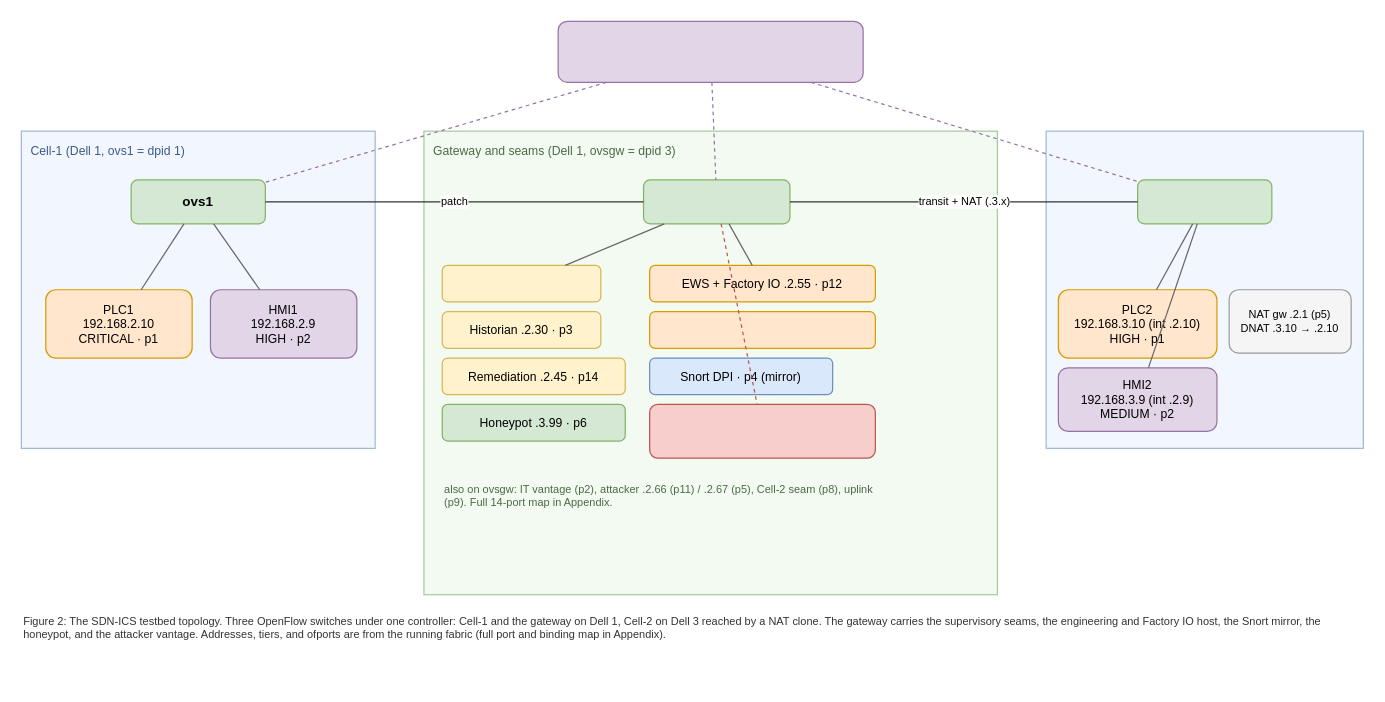
This 1385x702 diagram has some shape labels left out. The shapes that lost their labels are listed below. From the top down, each one's box as (x1, y1, x2, y2) in pixels, then its label:
(557, 20, 863, 82): CARS controller (Dell 2) os-ken, OpenFlow 1.3, API :8080
(642, 179, 790, 224): ovsgw
(1136, 179, 1272, 224): ovs2
(441, 264, 601, 302): SCADA .2.31 · p10
(1045, 130, 1363, 448): Cell-2 (Dell 3, ovs2 = dpid 2)
(648, 310, 875, 348): Modbus PLC .2.20 · LOW · p7
(648, 403, 875, 458): Kali .2.77 · p13 unregistered (attacker)
